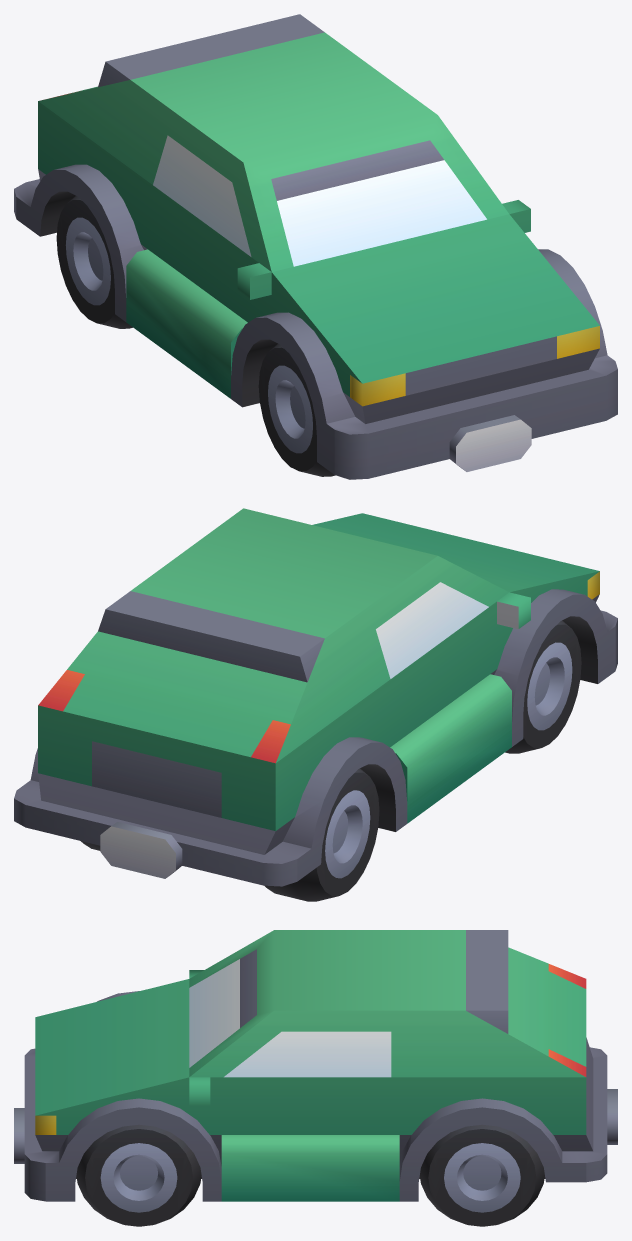
File: sportbil.glb
3 renders of one model, top to bottom at view 1: azimuth 30°, elevation 25°; view 2: azimuth 150°, elevation 25°; view 3: azimuth 270°, elevation 25°, orthographic. The views are drawn at different scales.
Parts seen in each view (by area): view 1: body, wheel-back-right, wheel-front-right; view 2: body, wheel-back-right, wheel-front-right; view 3: body, wheel-back-left, wheel-front-left.
Boxes of the visible parts, left/top/right/bottom form: body: left=14, top=14, right=617, bottom=479; wheel-back-right: left=56, top=196, right=132, bottom=328; wheel-front-right: left=258, top=343, right=335, bottom=476; body: left=14, top=508, right=617, bottom=886; wheel-back-right: left=264, top=768, right=379, bottom=901; wheel-front-right: left=505, top=620, right=581, bottom=753; body: left=14, top=930, right=617, bottom=1201; wheel-back-left: left=419, top=1124, right=544, bottom=1226; wheel-front-left: left=76, top=1124, right=201, bottom=1226.
Size of the model in its own units: 1.3 by 1.1 by 2.85.
1 material, 1 textured.
